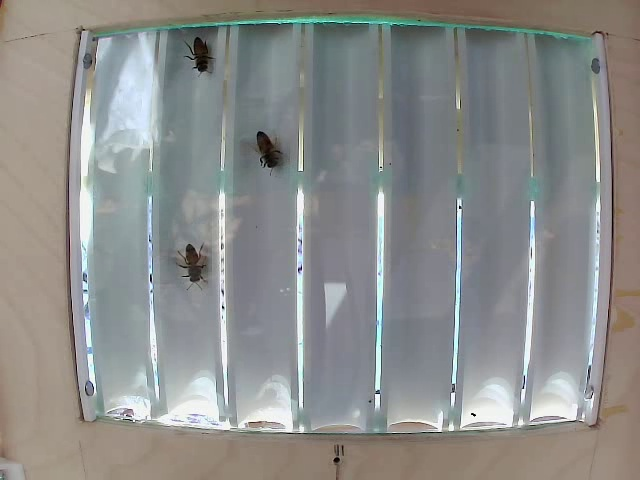bee: (177, 235, 221, 292), (256, 126, 293, 184), (180, 38, 222, 88)
